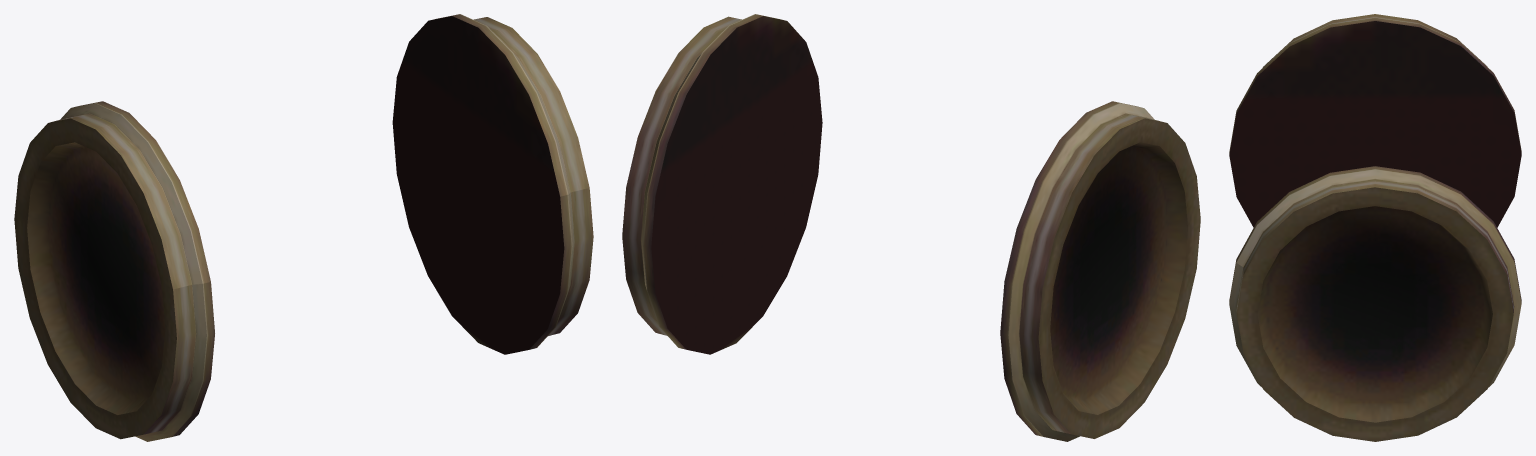
Rendered from wheelset.glb.
The picture shows the model from 3 angles, left to right: view 1: azimuth 30°, elevation 25°; view 2: azimuth 150°, elevation 25°; view 3: azimuth 270°, elevation 25°; orthographic projection. The views are drawn at different scales.
Visible parts, largest first — view 1: DrawCall_0048_3, DrawCall_0049_30; view 2: DrawCall_0048_3, DrawCall_0049_30; view 3: DrawCall_0048_3, DrawCall_0049_30.
Boxes of the visible parts, x1=… form: DrawCall_0048_3: x1=14, y1=14, x2=574, y2=441; DrawCall_0049_30: x1=51, y1=17, x2=593, y2=434; DrawCall_0048_3: x1=641, y1=14, x2=1200, y2=441; DrawCall_0049_30: x1=622, y1=16, x2=1163, y2=434; DrawCall_0048_3: x1=1229, y1=17, x2=1521, y2=441; DrawCall_0049_30: x1=1236, y1=14, x2=1514, y2=314.
Size of the model in its own units: 1.57 by 1.14 by 1.12.
Materials: 1 (1 with a texture image).
